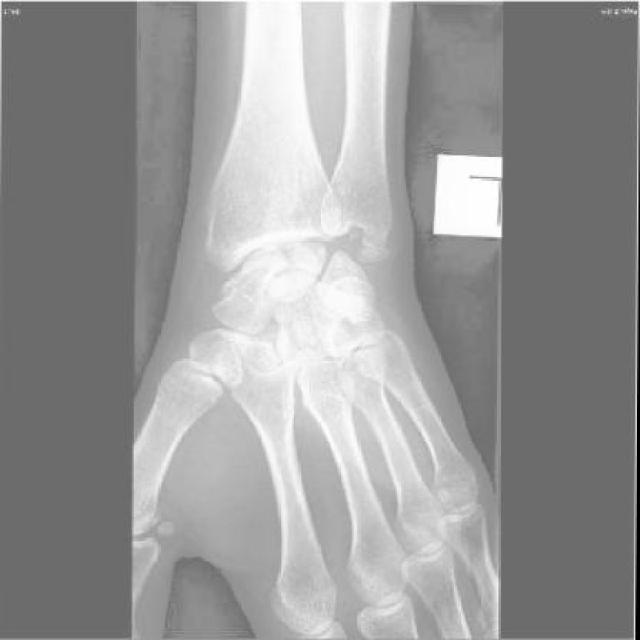Fracture: (221, 265, 279, 324)
